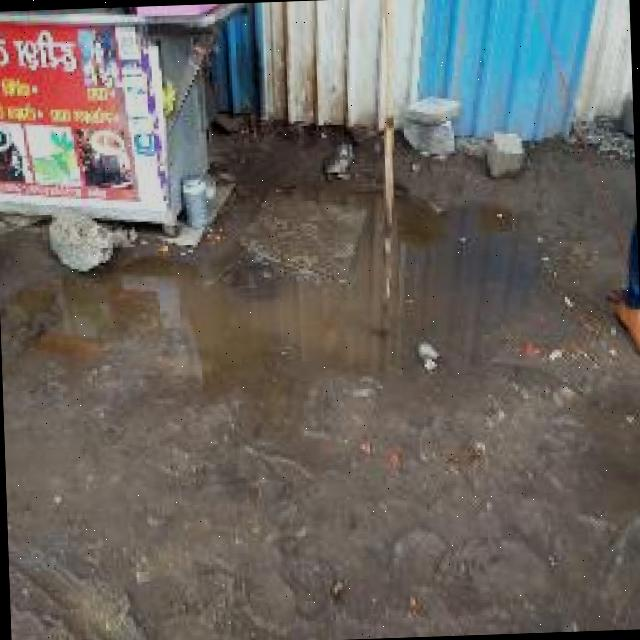waterlogging: (208, 215, 566, 455)
